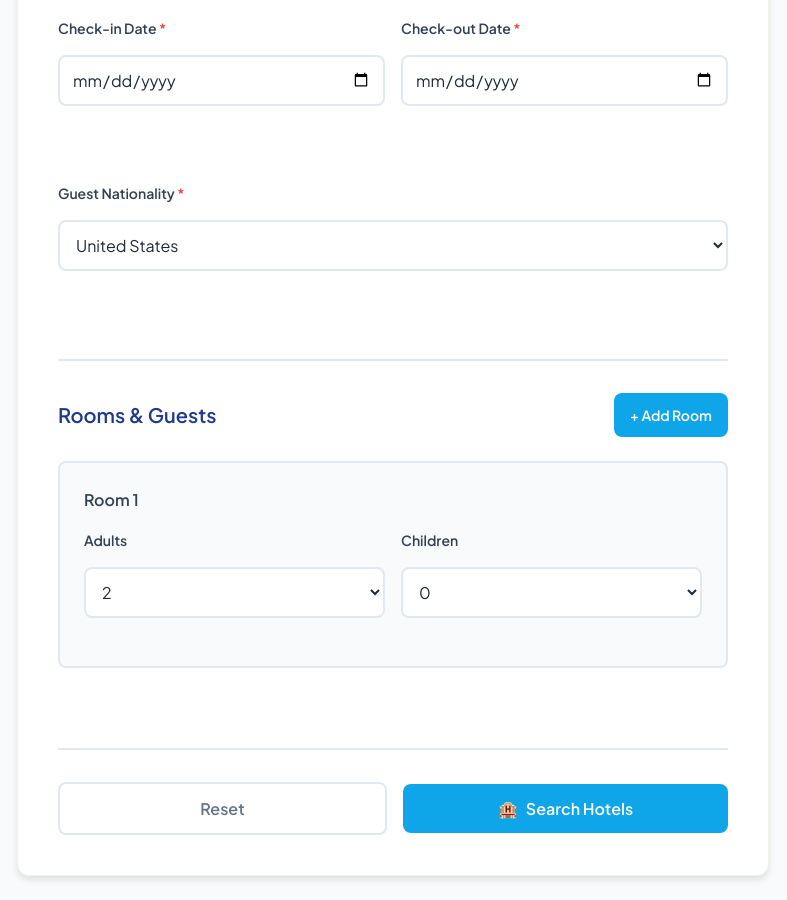
Test: HotelSearchForm › Children Ages › should show children age inputs when children count is greater than 0
(page scrolled)
Select "2" in the dropdown labelled "Children" at (552, 593), box [401, 567, 702, 618]
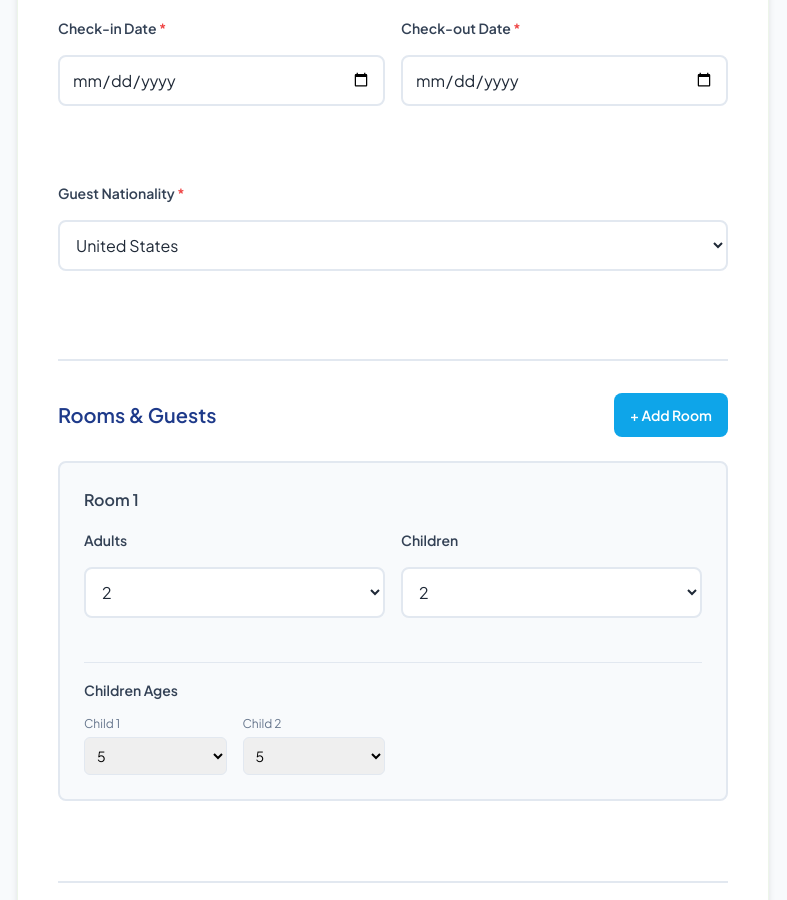
Check: the text "Children Ages" is shown, box [84, 681, 178, 699]
Check: the dropdown labelled "Child 1" is shown, box [84, 737, 226, 775]
Check: the dropdown labelled "Child 2" is shown, box [242, 737, 385, 775]
